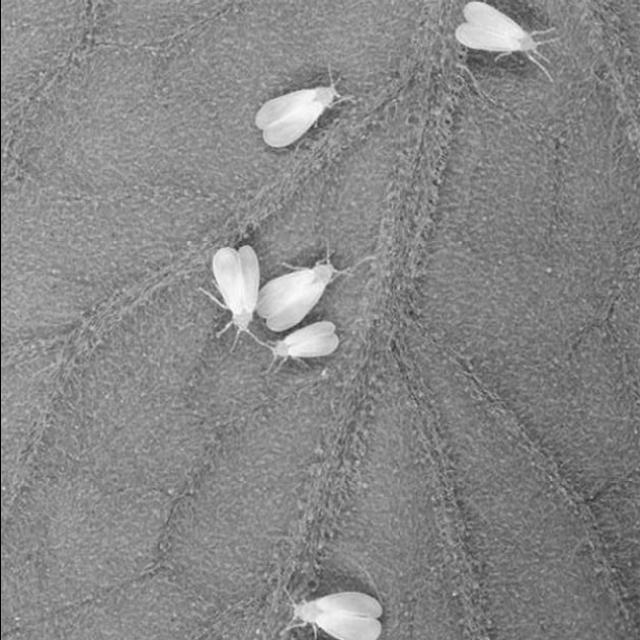Whitefly: (191, 228, 351, 391), (238, 69, 360, 161), (446, 1, 560, 76), (276, 568, 394, 640)
